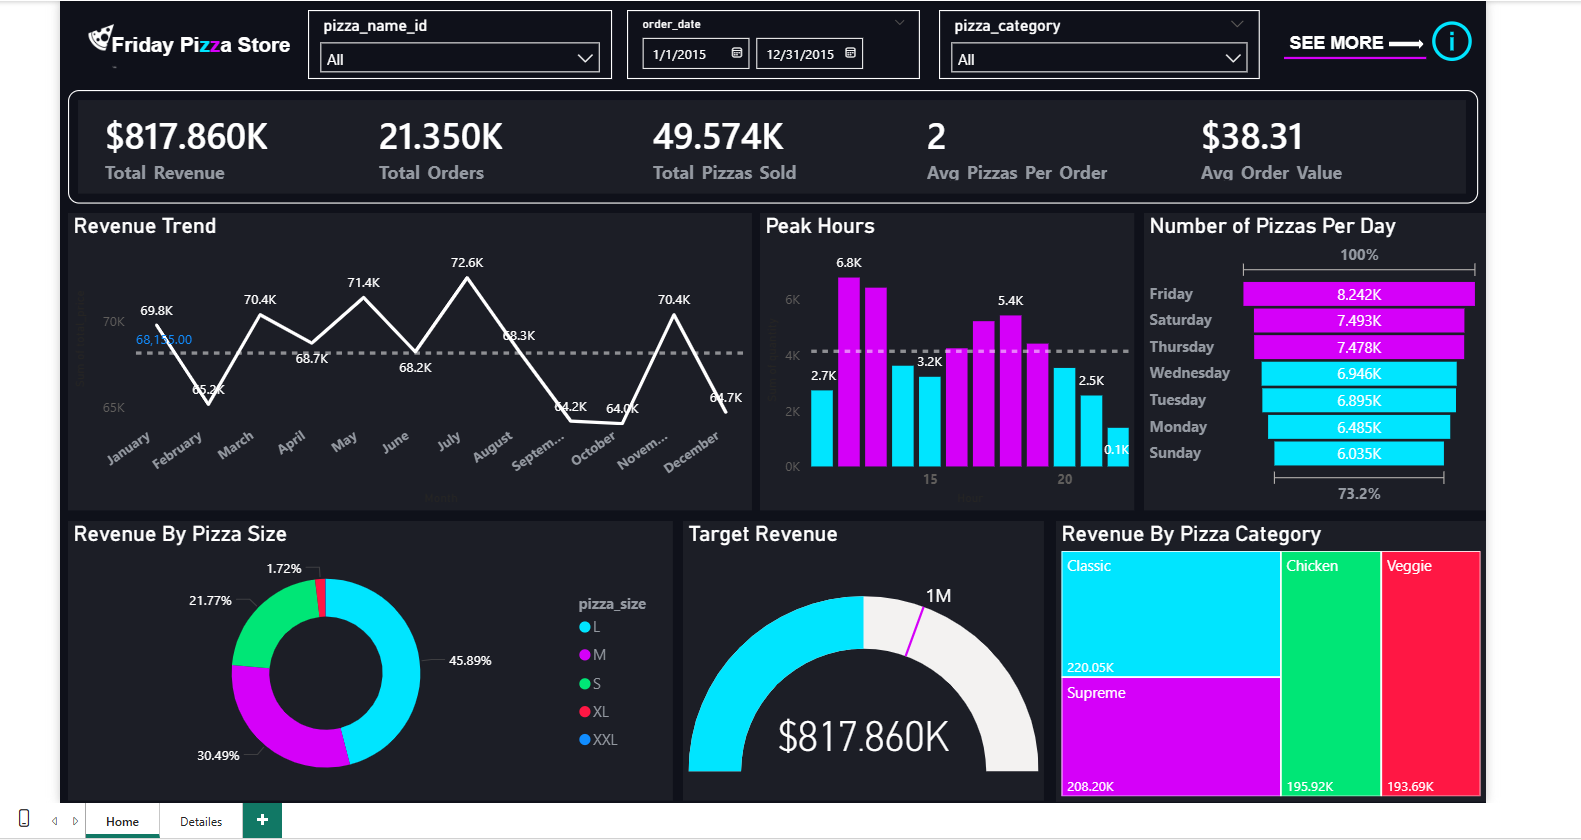

The dashboard page shown, as its layout file describes it:
{"tool":"powerbi","page":{"name":"Home","canvas":[1280,720],"ordinal":0},"visuals":[{"type":"funnel","title":"Number of Pizzas Per Day","fields":{"Category":["pizza_sales (2).Day Name"],"Y":["Sum(pizza_sales (2).quantity)"]},"box":[972.9,190.5,307.1,266.5],"z":0},{"type":"lineChart","title":"Revenue Trend","fields":{"Category":["pizza_sales (2).order_date.Variation.Date Hierarchy.Year","pizza_sales (2).order_date.Variation.Date Hierarchy.Quarter","pizza_sales (2).order_date.Variation.Date Hierarchy.Month","pizza_sales (2).order_date.Variation.Date Hierarchy.Day"],"Y":["Sum(pizza_sales (2).total_price)"]},"box":[7.1,190.5,614.2,266.5],"z":1000},{"type":"treemap","title":"Revenue By Pizza Category","fields":{"Group":["pizza_sales (2).pizza_category Hierarchy.pizza_category","pizza_sales (2).pizza_category Hierarchy.pizza_size"],"Values":["Sum(pizza_sales (2).total_price)"]},"box":[893.9,467.2,386.1,252.4],"z":2000},{"type":"columnChart","title":"Peak Hours ","fields":{"Category":["pizza_sales (2).Hour"],"Y":["Sum(pizza_sales (2).quantity)"]},"box":[628.3,190.5,336.5,266.5],"z":3000},{"type":"textbox","box":[41.6,23.3,210.8,56.8],"z":4000},{"type":"image","box":[0,8.1,74,52.7],"z":5000},{"type":"cardVisual","fields":{"Data":["pizza_sales (2).Tota_Revenue","pizza_sales (2).Total_Orders","pizza_sales (2).Total_Pizzas_Sold","pizza_sales (2).Avg_Pizzas_Per_Order","pizza_sales (2).Avg_Order_Value"]},"box":[7.1,80.1,1265.8,102.4],"z":6000},{"type":"donutChart","title":"Revenue By Pizza Size","fields":{"Category":["pizza_sales (2).pizza_size"],"Y":["Sum(pizza_sales (2).total_price)"]},"box":[7.1,467.2,543.2,251.3],"z":7000},{"type":"gauge","title":"Target Revenue","fields":{"Y":["pizza_sales (2).Total_Revenue"],"TargetValue":["pizza_sales (2).Target_Revenue"]},"box":[559.4,467.2,324.3,251.3],"z":8000},{"type":"slicer","fields":{"Values":["pizza_sales (2).pizza_name_id"]},"box":[223,8.1,272.6,61.8],"z":9000},{"type":"slicer","fields":{"Values":["pizza_sales (2).order_date"]},"box":[508.8,8.1,263.5,61.8],"z":10000},{"type":"slicer","fields":{"Values":["pizza_sales (2).pizza_category"]},"box":[789.5,8.1,287.8,61.8],"z":11000},{"type":"actionButton","box":[1226.3,11.1,46.6,49.7],"z":12000},{"type":"shape","box":[1098.6,8.1,127.7,86.1],"z":13000},{"type":"textbox","box":[1098.6,24.3,110.5,29.4],"z":14000},{"type":"shape","box":[1192.8,34.5,31.4,9.1],"z":15000}]}

Visuals, with their boxes on the page's 1280x720 design canvas (x1, y1, x2, y2). These are canvas units, not pixel positions in the 1581x840 screenshot, which may show the page scaled, cropped or inside an application window:
"Number of Pizzas Per Day" funnel: 973:190:1280:457
"Revenue Trend" lineChart: 7:190:621:457
"Revenue By Pizza Category" treemap: 894:467:1280:720
"Peak Hours " columnChart: 628:190:965:457
textbox: 42:23:252:80
image: 0:8:74:61
cardVisual - pizza_sales (2).Tota_Revenue x pizza_sales (2).Total_Orders: 7:80:1273:182
"Revenue By Pizza Size" donutChart: 7:467:550:718
"Target Revenue" gauge: 559:467:884:718
slicer - pizza_sales (2).pizza_name_id: 223:8:496:70
slicer - pizza_sales (2).order_date: 509:8:772:70
slicer - pizza_sales (2).pizza_category: 790:8:1077:70
actionButton: 1226:11:1273:61
shape: 1099:8:1226:94
textbox: 1099:24:1209:54
shape: 1193:34:1224:44
